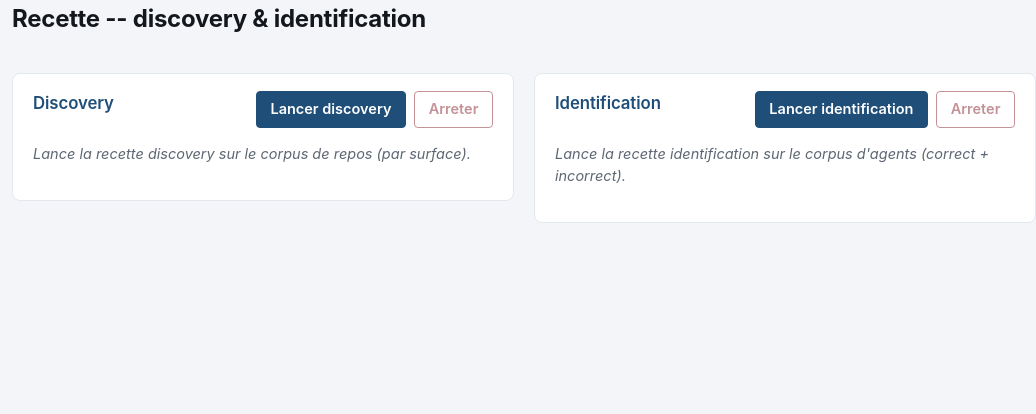
RecettePage › streams the captured discovery frames into the per-surface scorecard table
Click the button "Lancer discovery": (331, 109) x1=256 y1=91 x2=406 y2=128
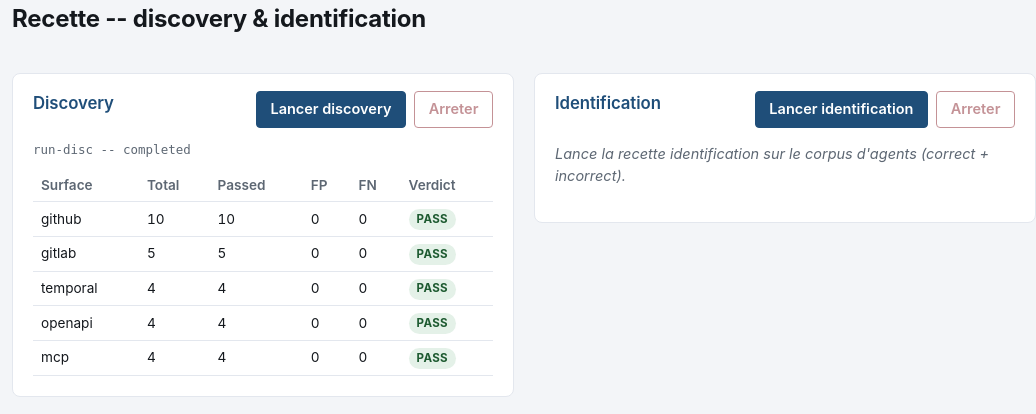
Expected: the text "github" is shown, x1=33 y1=202 x2=139 y2=236
Expected: the text "gitlab" is shown, x1=33 y1=236 x2=139 y2=271
Expected: the text "PASS" in the row of "github" is shown, x1=416 y1=212 x2=448 y2=226
